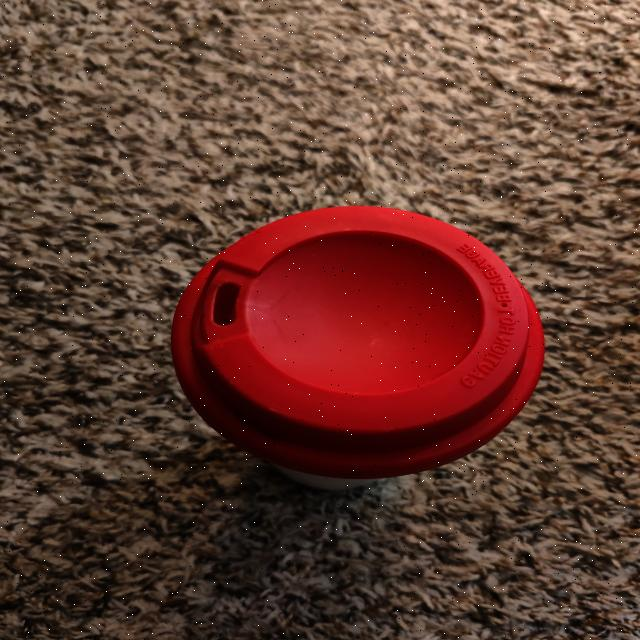mug: (274, 250, 498, 488)
